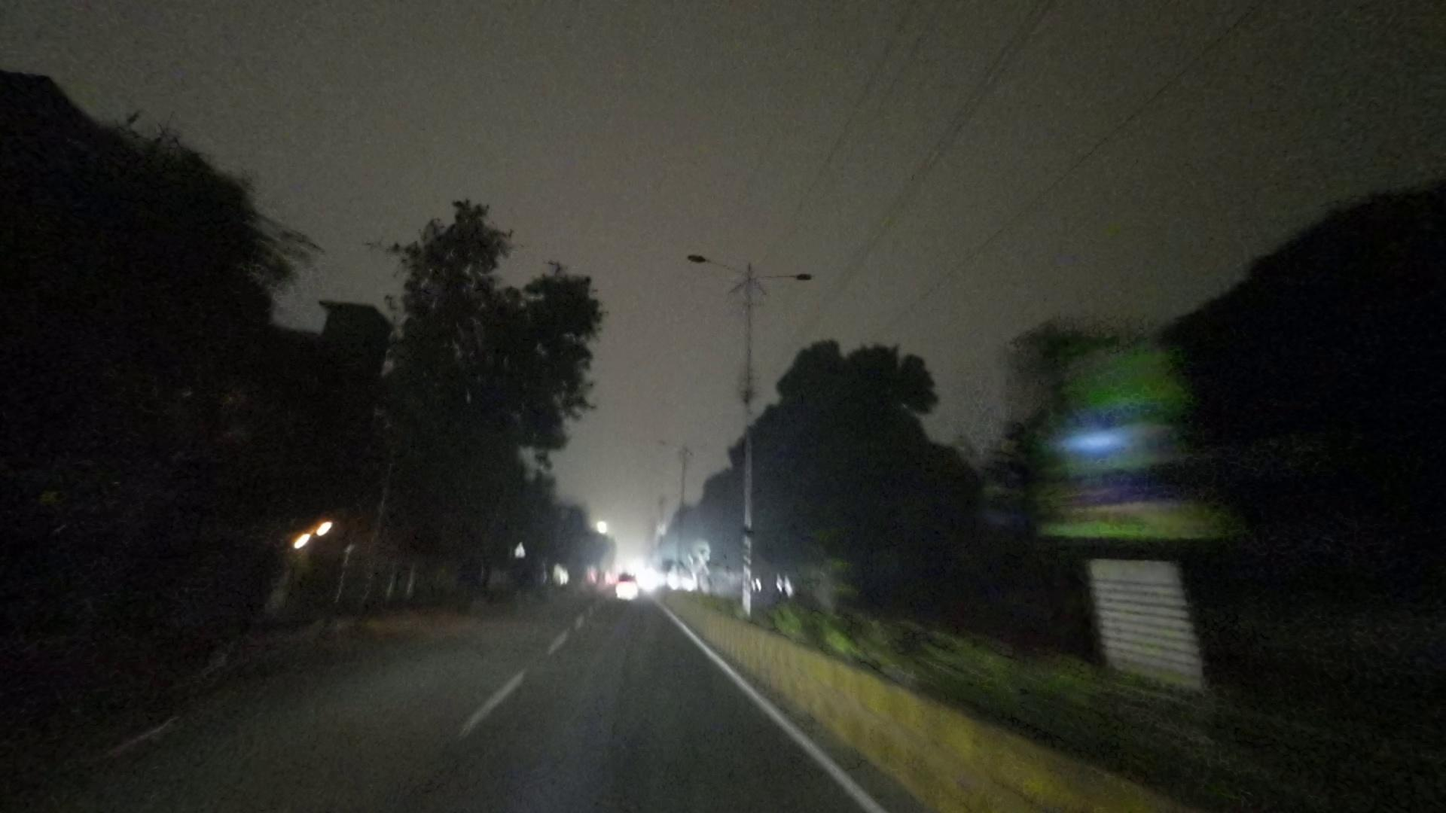streetlight: (685, 250, 748, 278), (753, 268, 815, 285)
